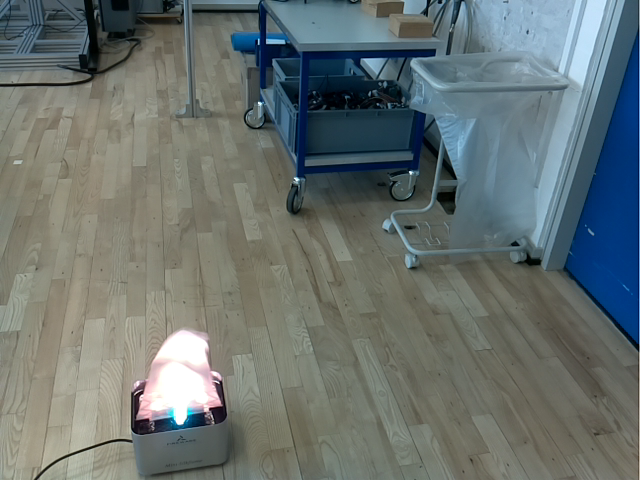fire: (136, 330, 223, 421)
